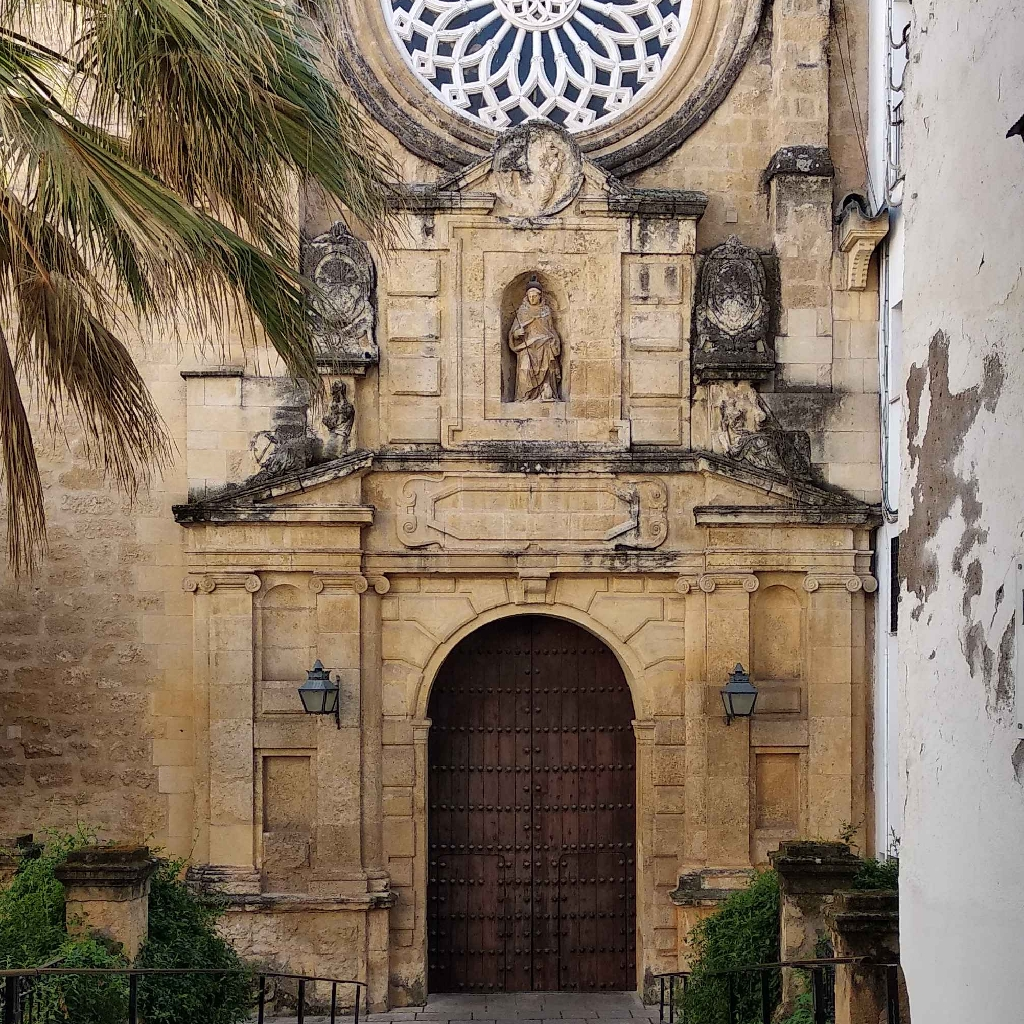arco-medio-punto: (412, 599, 651, 746)
fronton-partido: (176, 439, 870, 540)
